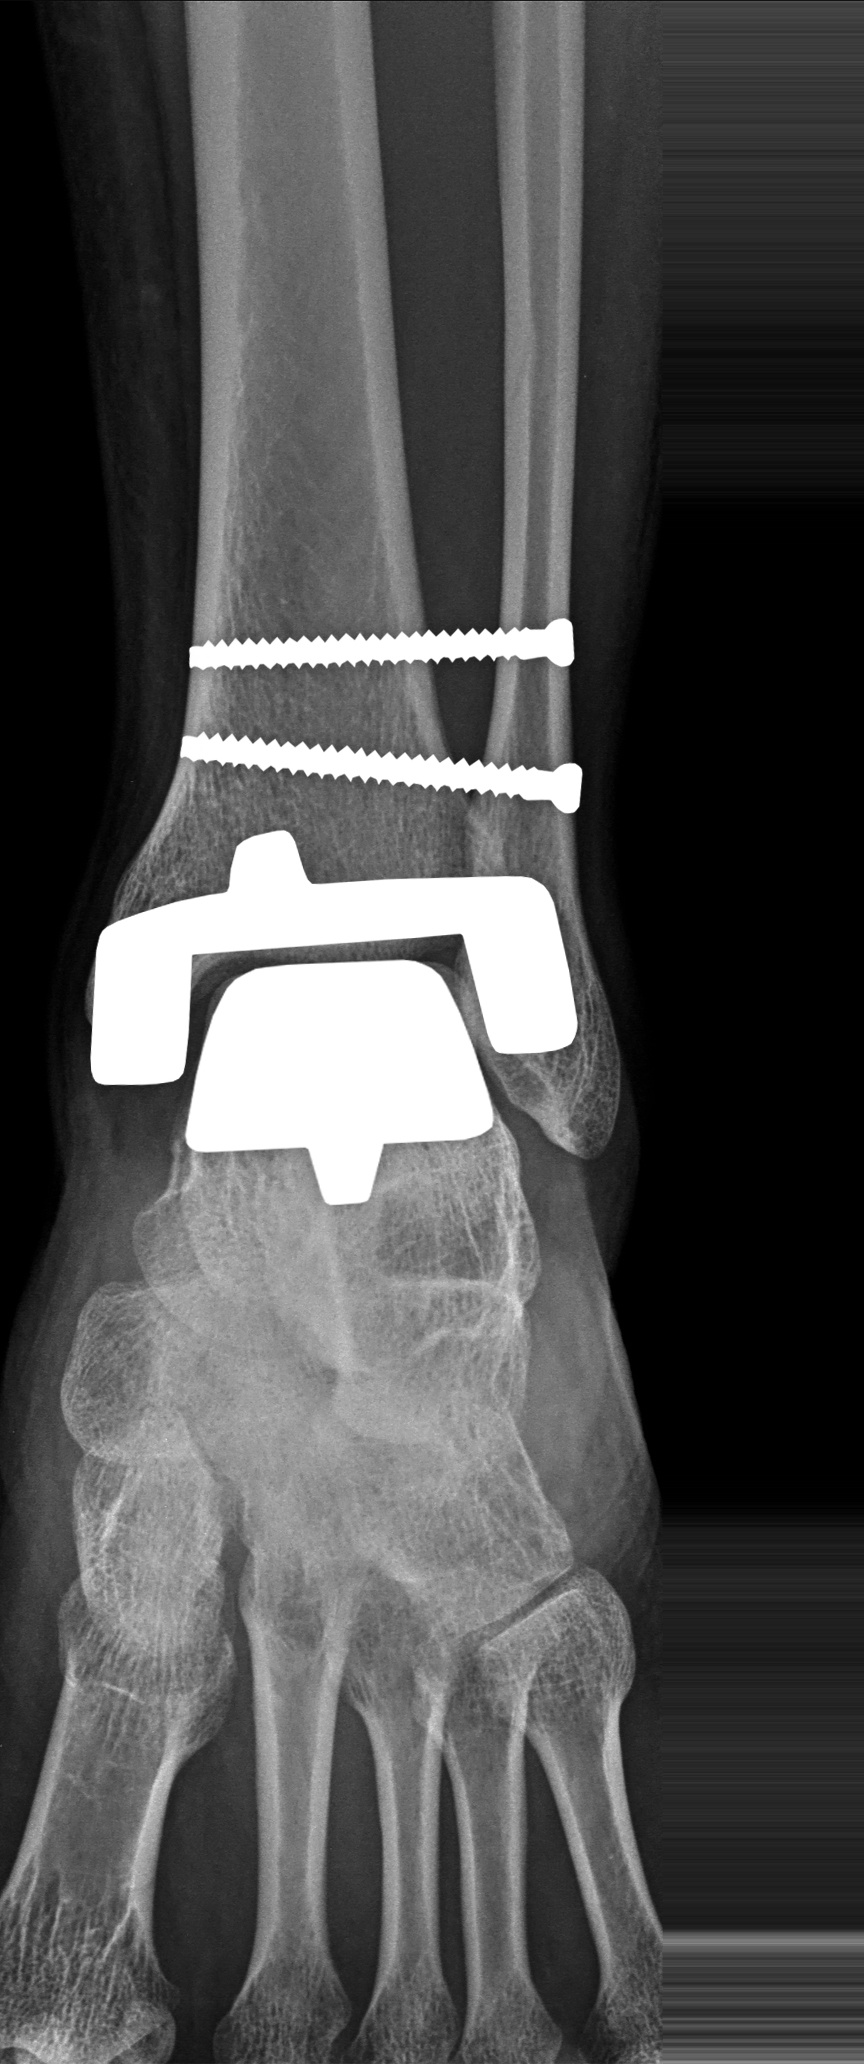Agility-Depuy: (86, 609, 626, 1210)
